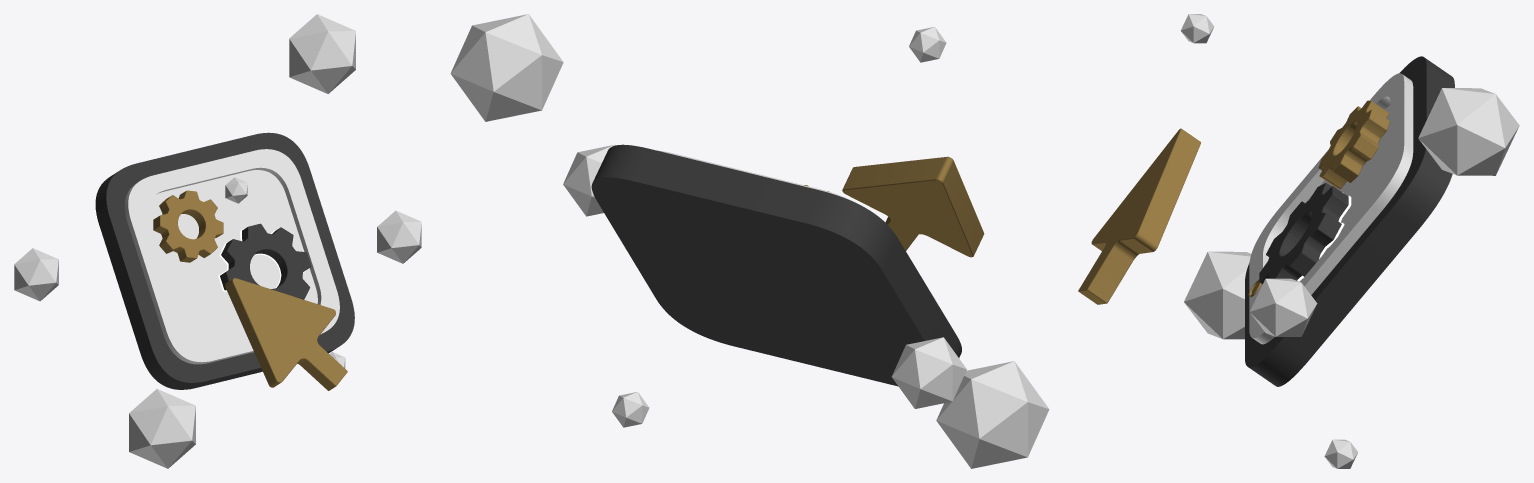
The model's file is modelDraco3_2.gltf.
3 views of the same model, side by side, from view 1: azimuth 30°, elevation 25°; view 2: azimuth 150°, elevation 25°; view 3: azimuth 270°, elevation 25° (orthographic). The views are drawn at different scales.
Parts seen in each view (by area): view 1: Box066, Box068, Box067, Line877526538, Hedra001.004, Hedra001.002, Line877526539, Line877526540, Hedra001.001, Hedra001.005, Hedra001; view 2: Box066, Line877526538, Hedra001.004, Hedra001.002, Hedra001.005, Hedra001.001, Hedra001, Hedra001.003; view 3: Box066, Box067, Line877526538, Hedra001.004, Line877526539, Hedra001.002, Line877526540, Hedra001.001, Box068, Hedra001.003, Hedra001.
Part boxes in pixels (x1=…): Box066: x1=95, y1=132, x2=354, y2=389; Box068: x1=147, y1=170, x2=317, y2=343; Box067: x1=124, y1=149, x2=339, y2=364; Line877526538: x1=225, y1=278, x2=347, y2=390; Hedra001.004: x1=289, y1=14, x2=355, y2=93; Hedra001.002: x1=129, y1=389, x2=195, y2=468; Line877526539: x1=220, y1=223, x2=311, y2=299; Line877526540: x1=153, y1=190, x2=223, y2=262; Hedra001.001: x1=377, y1=210, x2=421, y2=263; Hedra001.005: x1=14, y1=248, x2=58, y2=301; Hedra001: x1=225, y1=177, x2=247, y2=203; Box066: x1=591, y1=144, x2=961, y2=386; Line877526538: x1=842, y1=156, x2=984, y2=257; Hedra001.004: x1=450, y1=14, x2=563, y2=121; Hedra001.002: x1=936, y1=361, x2=1049, y2=468; Hedra001.005: x1=891, y1=337, x2=966, y2=408; Hedra001.001: x1=563, y1=144, x2=615, y2=216; Hedra001: x1=909, y1=26, x2=946, y2=62; Hedra001.003: x1=612, y1=391, x2=649, y2=427; Box066: x1=1245, y1=56, x2=1454, y2=386; Box067: x1=1249, y1=73, x2=1413, y2=344; Line877526538: x1=1078, y1=128, x2=1200, y2=304; Hedra001.004: x1=1418, y1=88, x2=1519, y2=175; Line877526539: x1=1259, y1=183, x2=1348, y2=284; Hedra001.002: x1=1184, y1=251, x2=1251, y2=339; Line877526540: x1=1318, y1=100, x2=1389, y2=188; Hedra001.001: x1=1250, y1=278, x2=1317, y2=336; Box068: x1=1299, y1=105, x2=1390, y2=281; Hedra001.003: x1=1324, y1=439, x2=1357, y2=468; Hedra001: x1=1180, y1=14, x2=1214, y2=43.
Size of the model in its own units: 341 by 298 by 295.
